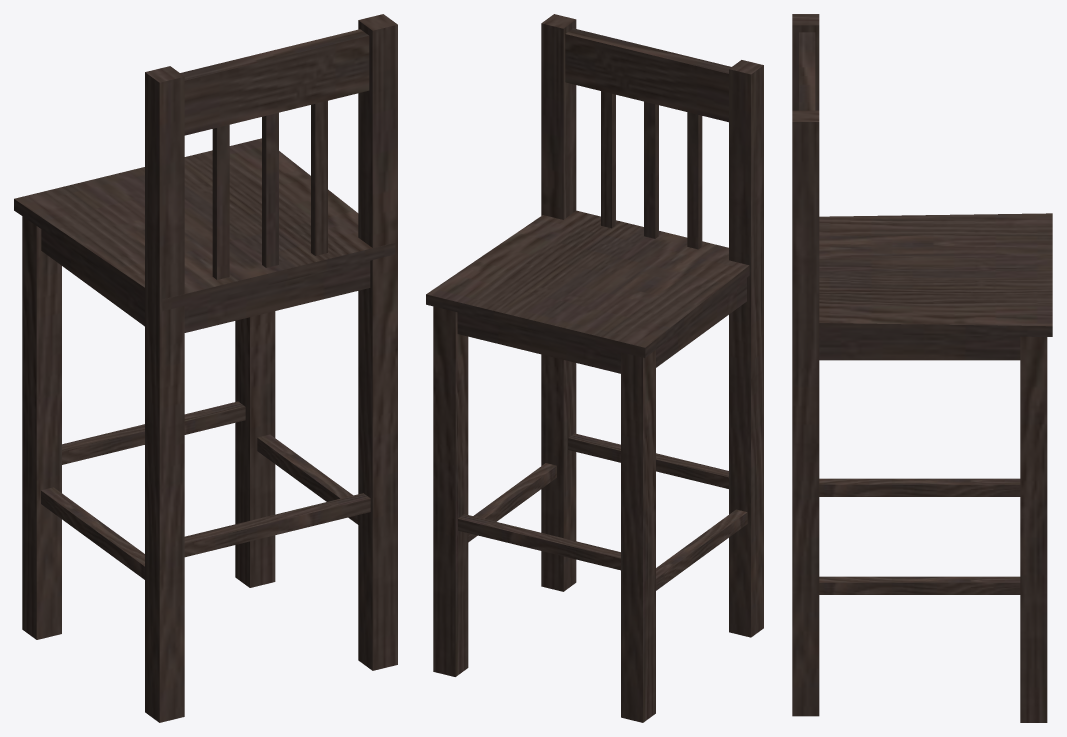
Rendered from Chair_20.glb.
3 views of the same model, side by side, from view 1: azimuth 30°, elevation 25°; view 2: azimuth 150°, elevation 25°; view 3: azimuth 270°, elevation 25° (orthographic). The views are drawn at different scales.
Parts seen in each view (by area): view 1: Chair_20; view 2: Chair_20; view 3: Chair_20.
Boxes of the visible parts, x1,y1,x2,y2 form: Chair_20: (14,14,397,722); Chair_20: (426,14,763,722); Chair_20: (792,14,1052,722).
Size of the model in its own units: 0.4972 by 1.23 by 0.4852.
Materials: 1 (1 with a texture image).
